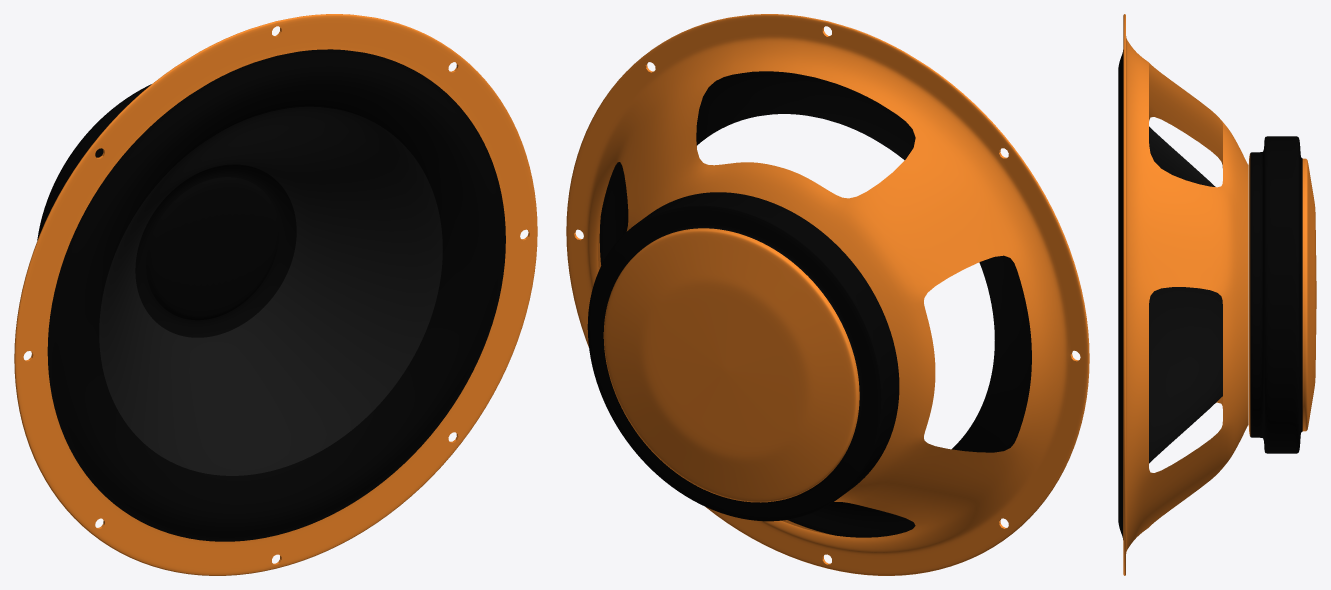
Rendered from Speaker.obj.
3 views of the same model, side by side, from view 1: azimuth 30°, elevation 25°; view 2: azimuth 150°, elevation 25°; view 3: azimuth 270°, elevation 25° (orthographic). The views are drawn at different scales.
Visible parts, largest first — view 1: Circle; view 2: Circle; view 3: Circle.
Boxes of the visible parts, box(x1,y1,x2,y2) form: Circle: box(14, 14, 537, 575); Circle: box(566, 14, 1089, 575); Circle: box(1118, 14, 1316, 575).
Bounding box in the file's own units: 6.06 × 6.06 × 2.14.
